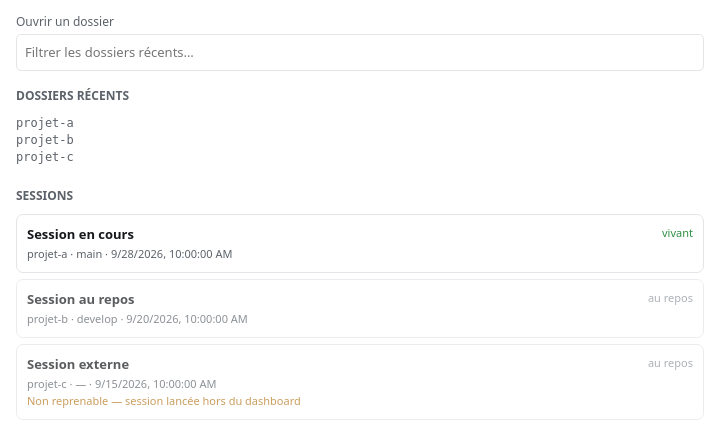
it: le champ de filtre restreint aux dossiers correspondants
Check: the text "projet-a" is shown, box top-left (16, 116), bottom-right (74, 130)
In the field named "Ouvrir un dossier": (360, 53) top-left (16, 34), bottom-right (704, 71), type "projet-b"
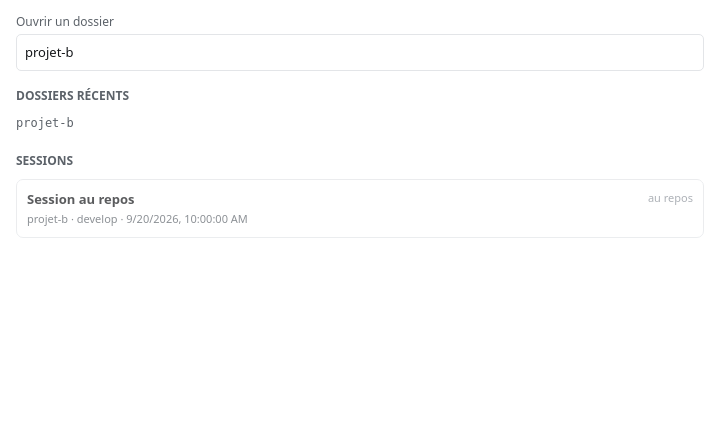
Check: the text "projet-b" is shown, box top-left (16, 116), bottom-right (74, 130)
Check: the text "projet-a" is gone
